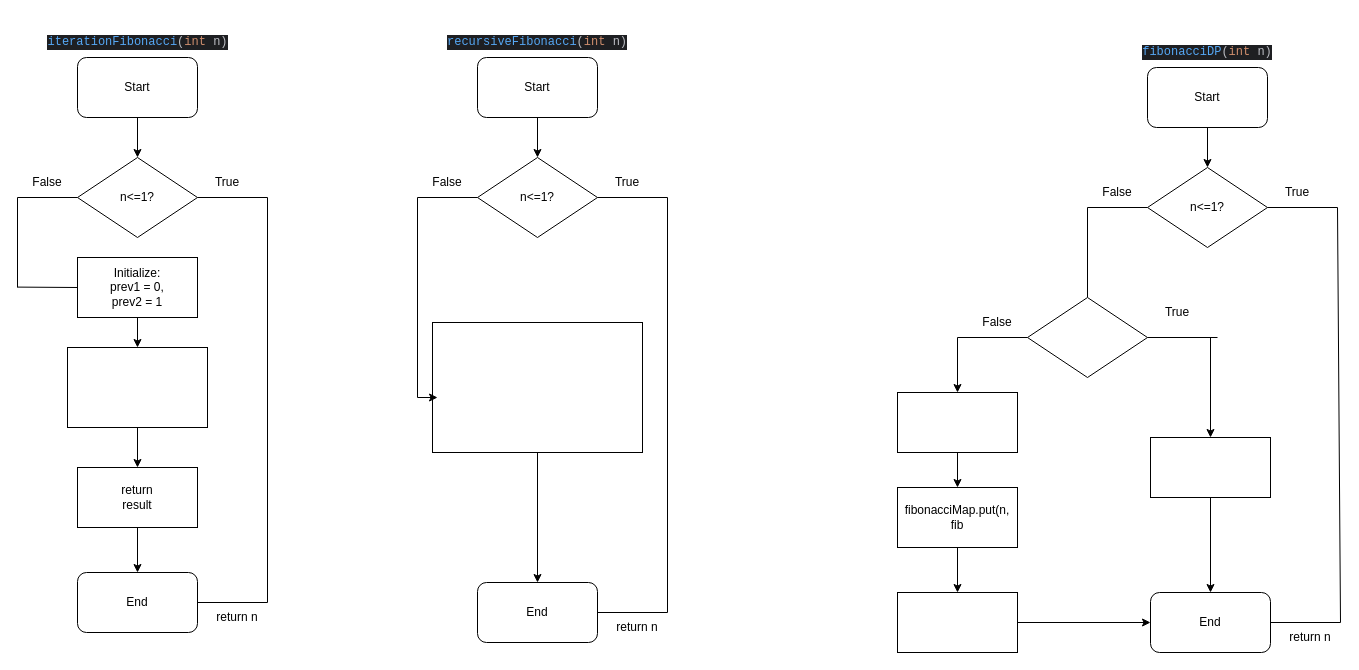
This 1359x670 diagram has some shape labels left out. Each missing label, with the box of its shape:
fib = fibonacciDP(n -1 ) + fibonacciDP(n -2 ): (896, 392, 1018, 452)
Loop: For i = 2 to n result = prev1 + prev2 prev1 = prev2, prev2 = result: (66, 346, 208, 428)
n in fibonacciMap?: (1026, 296, 1148, 378)
return fib: (896, 592, 1018, 652)
return fibonacciMap.get(n): (1150, 436, 1270, 498)
return recursiveFibonacci(n - 1 ) + recursiveFibonacci(n - 2 ): (432, 322, 642, 452)
